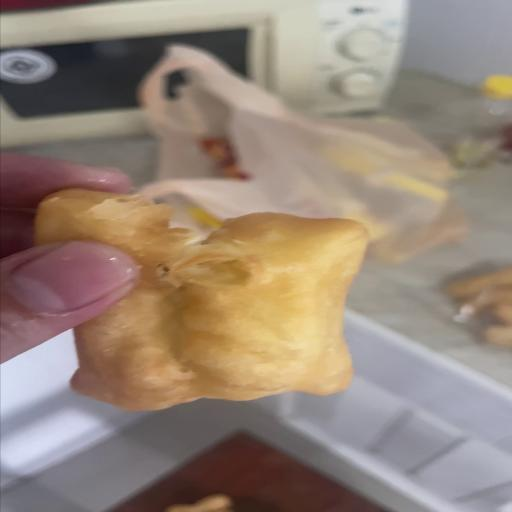street_golden_defect: (38, 185, 372, 410)
